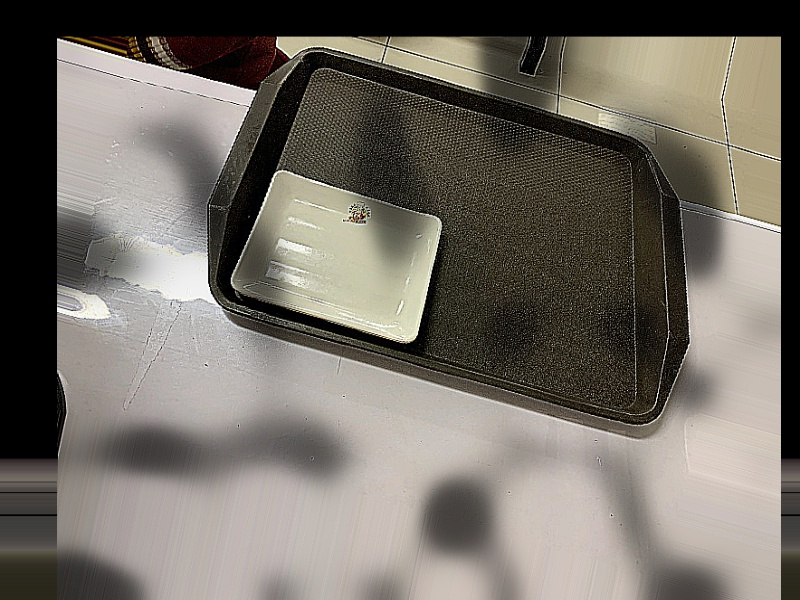dish4: (223, 155, 454, 356)
